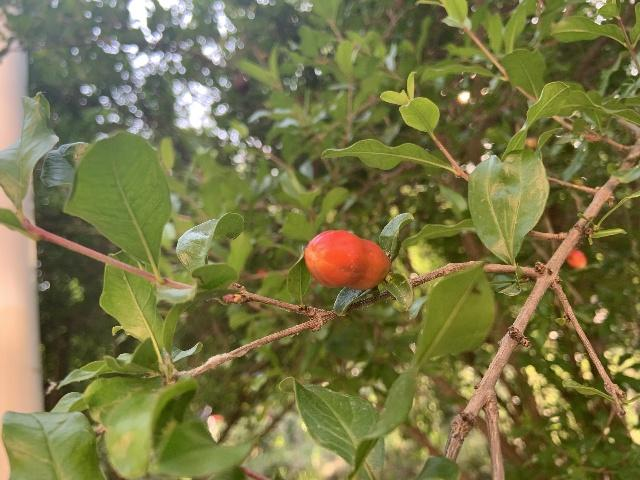bud: (304, 229, 390, 290), (566, 249, 587, 268)
